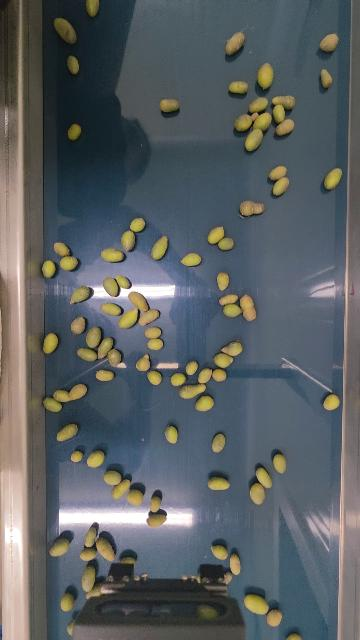Baby Potato: (53, 19, 77, 45), (244, 591, 268, 617), (224, 31, 246, 56), (178, 383, 208, 400), (239, 293, 257, 321), (91, 337, 115, 358), (150, 235, 169, 261), (256, 63, 274, 90), (249, 483, 267, 510), (240, 199, 265, 218), (54, 424, 80, 442), (128, 290, 150, 311), (255, 467, 276, 489), (233, 112, 256, 132), (243, 129, 262, 153), (97, 536, 115, 561), (319, 33, 340, 54), (69, 286, 90, 307), (101, 275, 120, 298), (220, 339, 244, 357), (252, 111, 273, 131), (119, 309, 139, 330), (108, 477, 129, 497), (206, 223, 225, 245), (206, 477, 232, 493), (324, 168, 342, 191), (273, 93, 298, 109), (120, 230, 138, 252), (80, 564, 94, 592), (85, 327, 101, 351), (191, 395, 215, 411), (134, 352, 152, 373), (50, 539, 71, 557), (136, 310, 161, 325), (210, 353, 235, 368), (269, 162, 288, 181), (86, 450, 105, 469), (270, 104, 288, 124), (100, 248, 124, 263), (43, 397, 63, 415), (159, 96, 180, 113), (272, 177, 289, 198), (65, 121, 83, 140), (210, 543, 229, 561), (248, 96, 269, 112), (106, 345, 122, 366), (76, 346, 98, 361), (83, 0, 102, 17), (66, 55, 82, 75), (228, 79, 248, 95), (181, 253, 202, 268), (42, 333, 57, 354), (94, 370, 118, 383), (144, 336, 166, 350), (67, 385, 89, 399), (50, 388, 72, 402), (265, 608, 282, 626), (276, 119, 295, 135), (322, 395, 341, 411), (102, 470, 121, 486), (84, 526, 97, 549), (221, 303, 242, 317), (273, 453, 287, 474), (116, 274, 133, 291), (69, 318, 86, 335), (60, 255, 78, 271), (147, 369, 163, 387), (213, 433, 226, 455), (128, 217, 147, 232), (217, 272, 231, 292), (100, 302, 120, 316), (147, 515, 168, 528), (196, 368, 213, 384), (128, 489, 143, 507), (320, 68, 332, 90), (165, 425, 178, 445), (210, 368, 228, 382), (78, 549, 98, 561), (60, 593, 72, 613), (43, 260, 56, 278), (150, 496, 163, 514), (230, 554, 241, 575), (218, 293, 237, 305), (144, 326, 163, 338), (219, 236, 233, 252), (54, 243, 70, 257), (184, 360, 198, 376), (169, 371, 184, 385), (85, 584, 100, 598), (285, 629, 304, 640), (67, 619, 75, 636), (71, 450, 82, 462), (122, 558, 135, 565)
